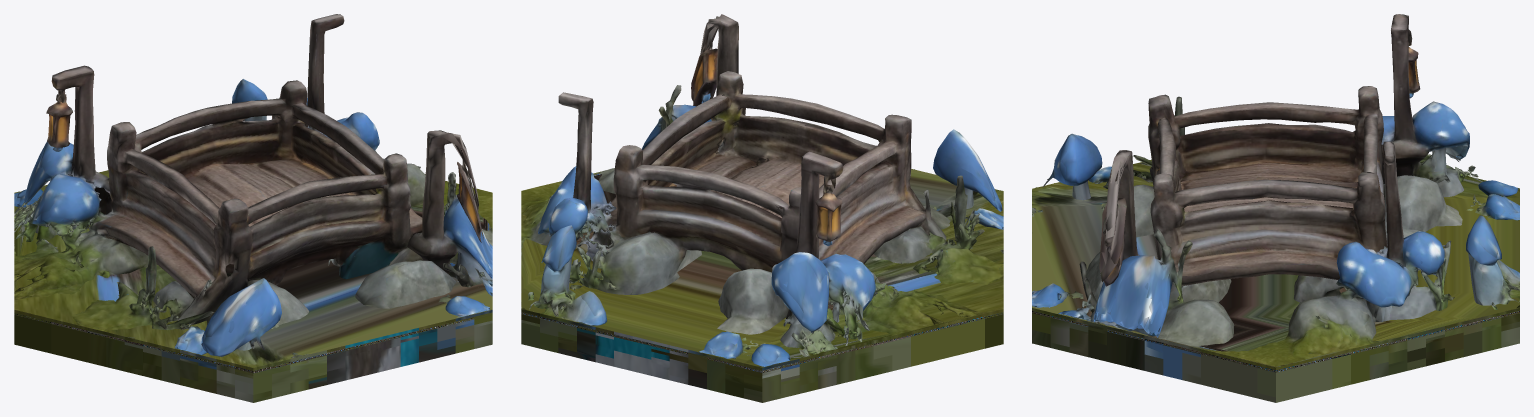
The model's file is hex_woodland_bridge.glb.
3 renders of one model, left to right at view 1: azimuth 30°, elevation 25°; view 2: azimuth 150°, elevation 25°; view 3: azimuth 270°, elevation 25°, orthographic. The views are drawn at different scales.
Visible parts, largest first — view 1: hex_woodland_bridge_s11_fit; view 2: hex_woodland_bridge_s11_fit; view 3: hex_woodland_bridge_s11_fit.
Boxes of the visible parts, x1,y1,x2,y2 form: hex_woodland_bridge_s11_fit: [14, 14, 492, 402]; hex_woodland_bridge_s11_fit: [521, 14, 1003, 402]; hex_woodland_bridge_s11_fit: [1032, 14, 1519, 402].
Size of the model in its own units: 5.11 by 2.04 by 4.42.
1 material, 1 textured.
